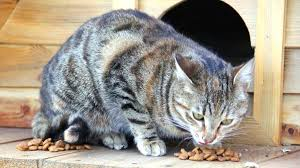cat: (9, 8, 263, 161)
